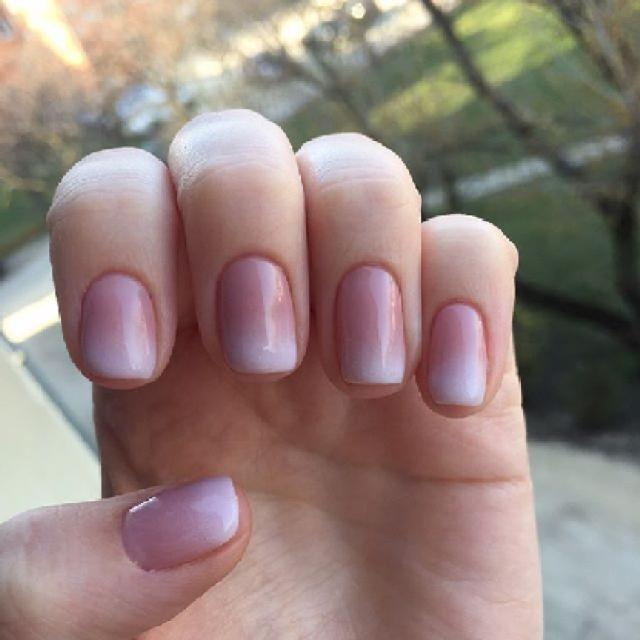Nail: (121, 475, 240, 569), (215, 253, 299, 374), (81, 272, 158, 382), (336, 265, 406, 385), (429, 302, 488, 407)
